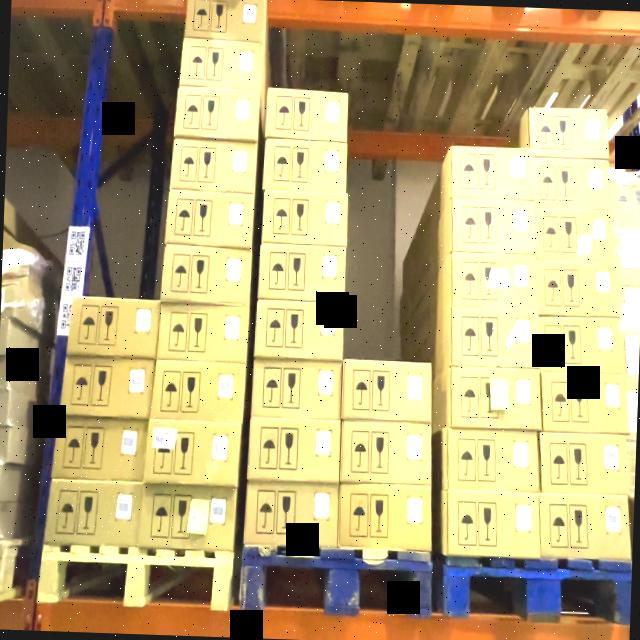box: (446, 489, 542, 556), (341, 483, 434, 550), (46, 481, 142, 545), (146, 420, 240, 485), (540, 494, 631, 560), (244, 482, 338, 545), (248, 418, 340, 482), (344, 420, 434, 485), (252, 300, 346, 362), (143, 486, 237, 548), (448, 429, 540, 492), (157, 302, 250, 364), (451, 368, 542, 431), (449, 308, 541, 369), (344, 359, 432, 422), (541, 434, 633, 494), (56, 419, 146, 480), (541, 376, 632, 436), (256, 243, 348, 302), (251, 360, 341, 420), (72, 296, 160, 356), (154, 362, 245, 419), (65, 358, 152, 417), (162, 246, 250, 304), (260, 138, 350, 194), (260, 191, 350, 247), (453, 253, 538, 311), (539, 316, 623, 374), (453, 198, 537, 255), (174, 88, 260, 142), (168, 192, 254, 246), (170, 139, 256, 192), (265, 90, 348, 144), (452, 146, 534, 200), (539, 262, 618, 318), (538, 206, 614, 262), (535, 158, 612, 212), (182, 40, 264, 90), (529, 108, 605, 160), (186, 0, 264, 41), (611, 221, 640, 271), (609, 176, 640, 222), (621, 277, 640, 328), (624, 379, 638, 434), (625, 328, 640, 378)
